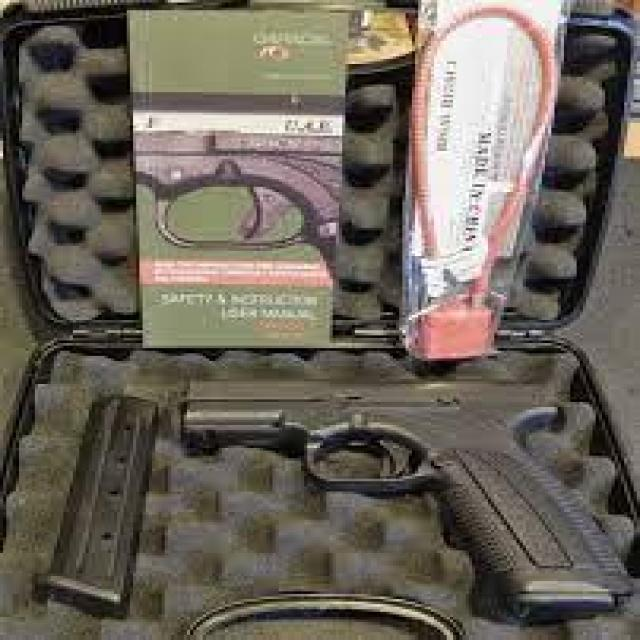Gun: (176, 370, 637, 618)
